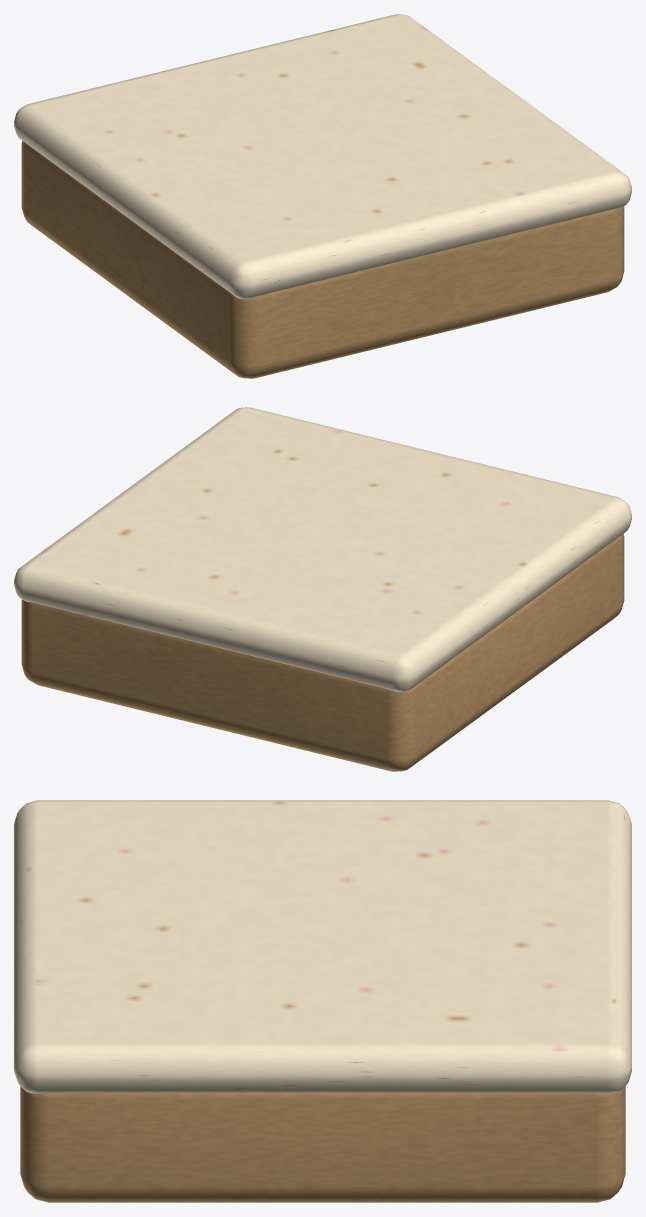
File: tile_kitchen_vanilla.glb
3 renders of one model, top to bottom at view 1: azimuth 30°, elevation 25°; view 2: azimuth 150°, elevation 25°; view 3: azimuth 270°, elevation 25°, orthographic. The views are drawn at different scales.
Parts seen in each view (by area): view 1: frosting_surface, biscuit_body; view 2: frosting_surface, biscuit_body; view 3: frosting_surface, biscuit_body.
Part boxes in pixels (x1=…): frosting_surface: x1=14, y1=14, x2=631, y2=299; biscuit_body: x1=21, y1=141, x2=624, y2=378; frosting_surface: x1=14, y1=407, x2=631, y2=692; biscuit_body: x1=21, y1=534, x2=624, y2=771; frosting_surface: x1=14, y1=800, x2=631, y2=1093; biscuit_body: x1=20, y1=1086, x2=625, y2=1202.
Size of the model in its own units: 0.97 by 0.28 by 0.97.
Materials: 3 (3 with a texture image).
